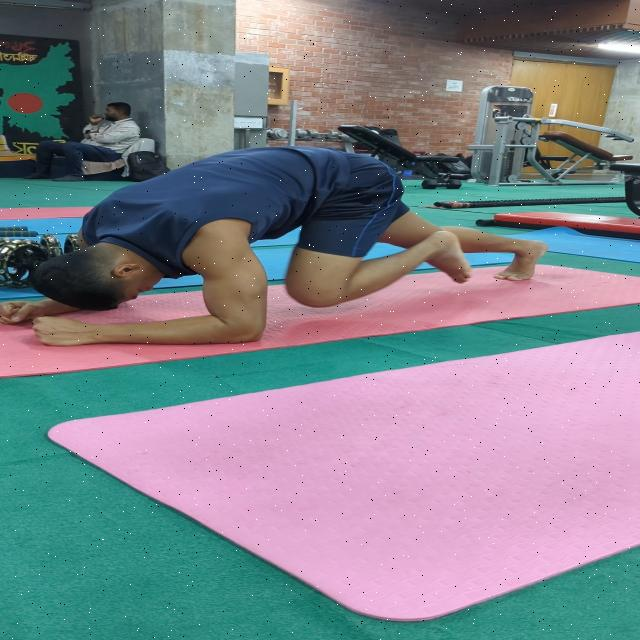Normal_MountainClimbers: (4, 136, 589, 368)
